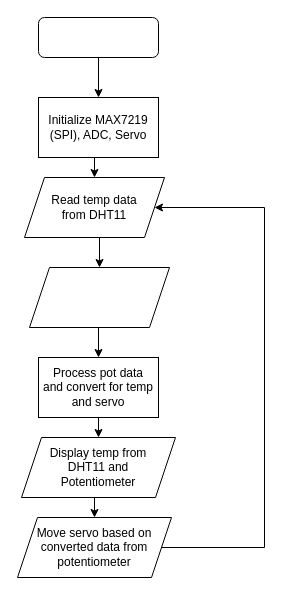
This 290x595 diagram has some shape labels left out. The shapes that lost their labels are listed below. From the top down, each one's centre as x and y in pixels, then its label:
At [98,37]: "START".
At [99,297]: "Read ADC data from Potentiometer".
